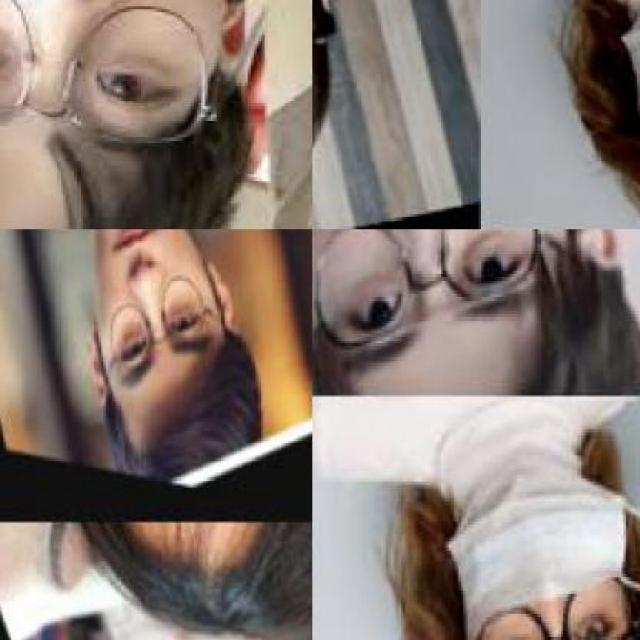mask: (312, 229, 590, 360), (0, 0, 226, 155), (84, 283, 228, 371), (462, 578, 638, 638)
